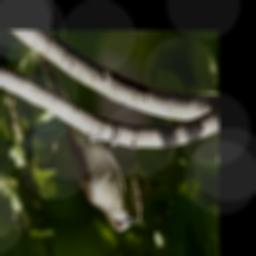Cuckoo: (40, 52, 138, 232)
